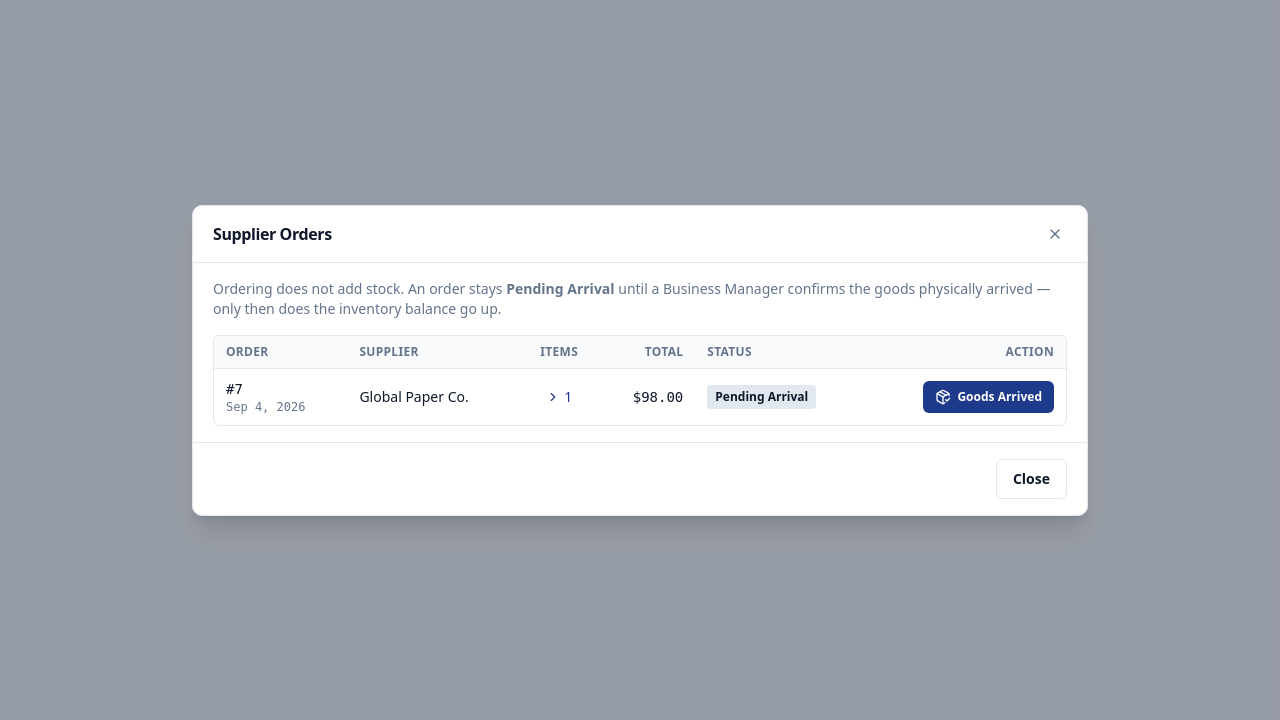
Scenario: SupplierOrdersModal › collapses the detail again
The image size is (1280, 720).
Expected: the text "Global Paper Co." is shown, [347,368,519,424]
Click the button named "show the items". click: [559, 396]
box: [540,384,578,408]
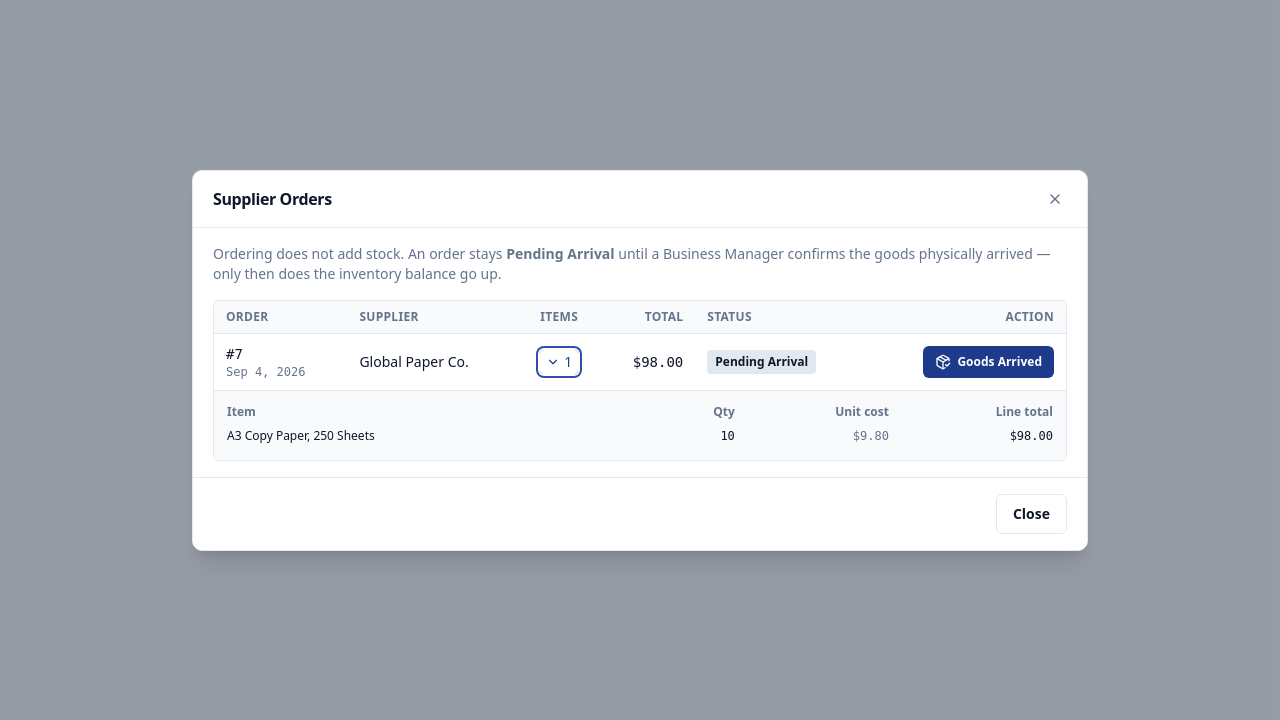
Click the button named "hide the items". click: [559, 362]
box: [540,350,578,374]
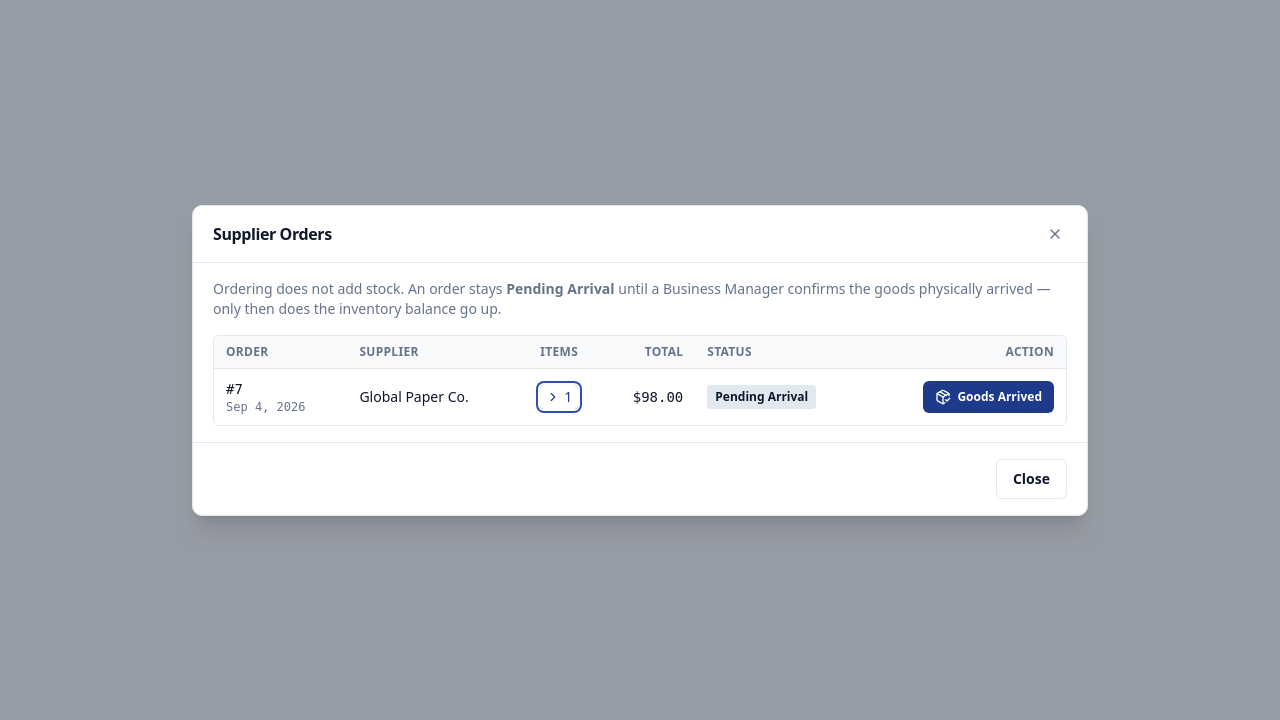
Now the text "A3 Copy Paper, 250 Sheets" is gone
